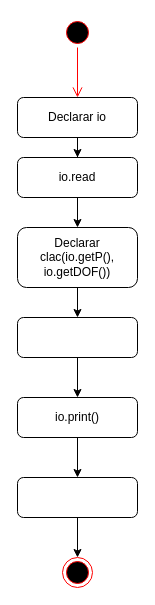
Image size: 155x605. Some labels were removed from this diagram. Each missing label, with the centre of its shape:
"io.setP(calc.getX())" goes at pixel 77 337.
"return 0" goes at pixel 77 497.
